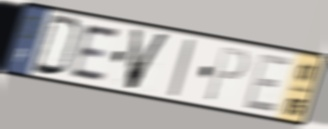D: (30, 12, 84, 79)
E: (241, 52, 294, 116), (69, 22, 122, 83)
I: (166, 37, 197, 100)
P: (203, 45, 251, 104)
V: (124, 26, 173, 93)
